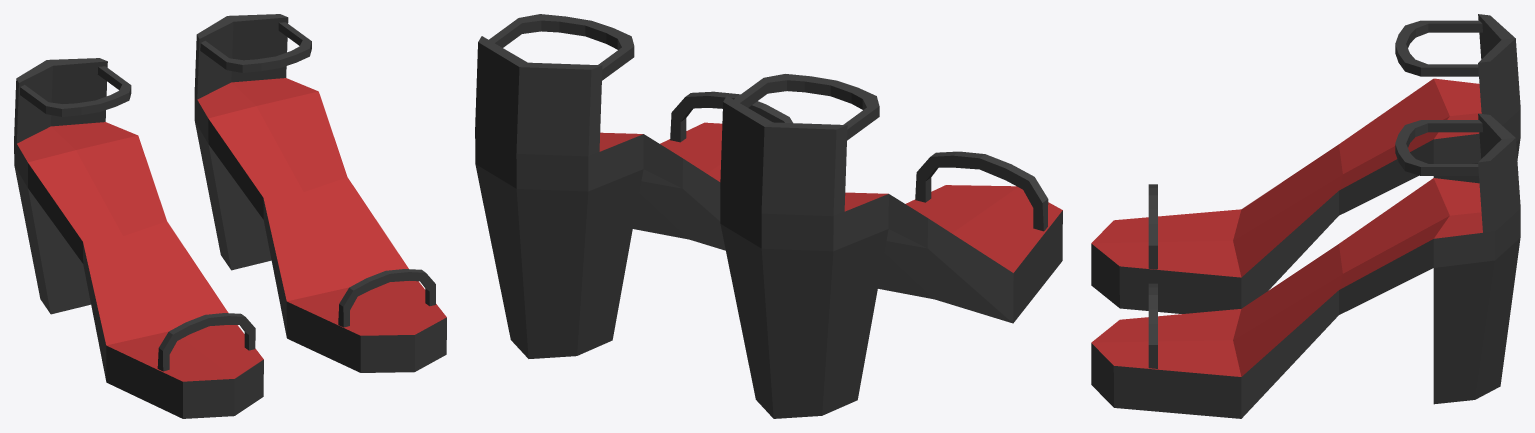
File: Sandals_2.fbx
3 views of the same model, side by side, from view 1: azimuth 30°, elevation 25°; view 2: azimuth 150°, elevation 25°; view 3: azimuth 270°, elevation 25° (orthographic). The views are drawn at different scales.
Visible parts, largest first — view 1: Sandals_2; view 2: Sandals_2; view 3: Sandals_2.
Part boxes in pixels (x1,y1,x2,y2): Sandals_2: (14,14,446,418); Sandals_2: (475,14,1062,418); Sandals_2: (1091,14,1520,418).
Size of the model in its own units: 34.24 by 37.05 by 23.66.
